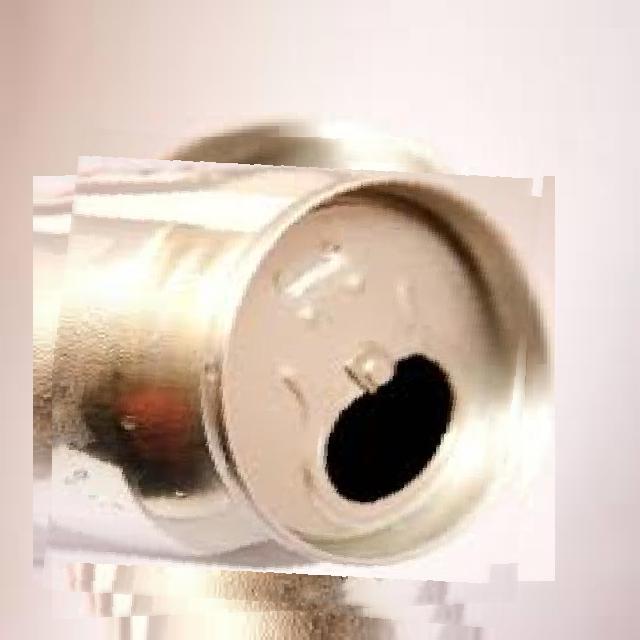recyclable: (52, 137, 535, 620)
